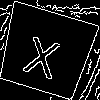X: (21, 25, 65, 80)
